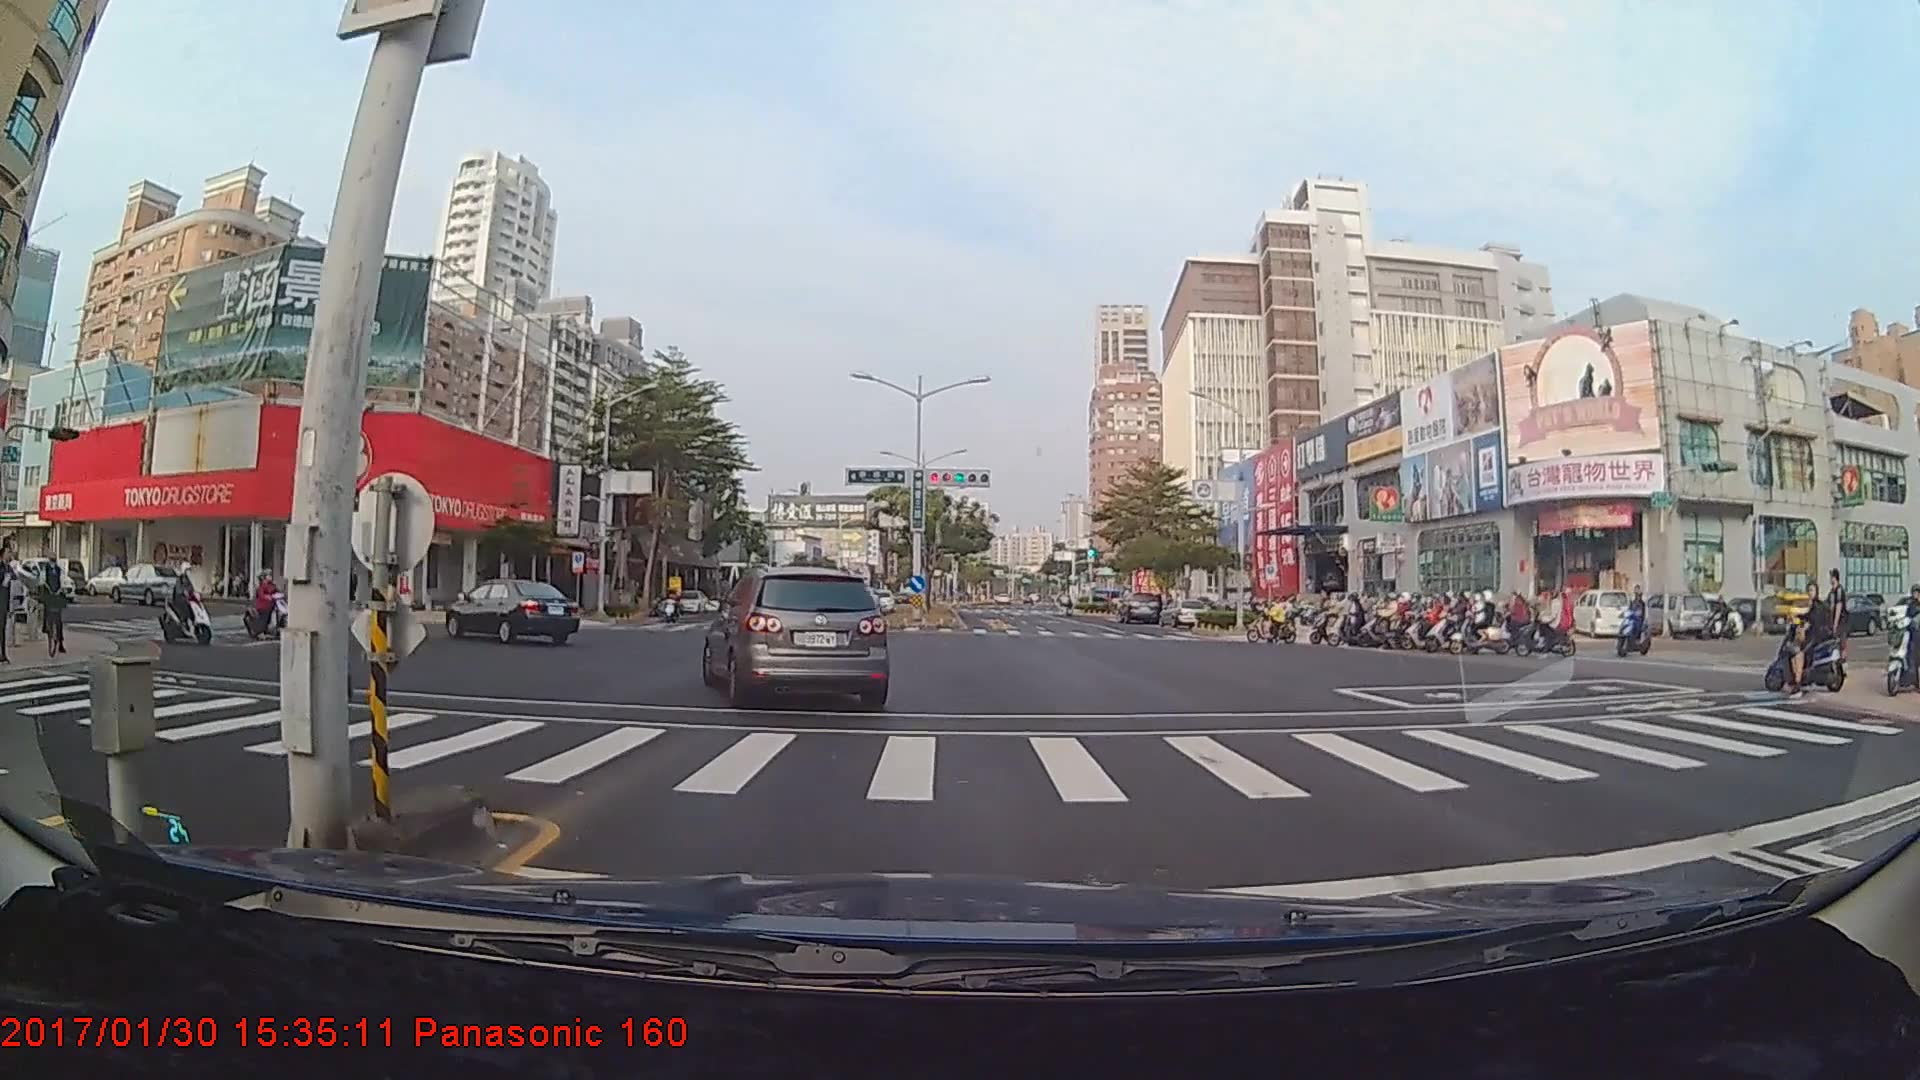pedestrian: (1823, 568, 1852, 681)
rider: (1769, 571, 1859, 698), (1512, 578, 1583, 663), (157, 560, 225, 648), (239, 572, 302, 642), (31, 555, 67, 662), (1461, 589, 1514, 654), (1298, 592, 1359, 645), (1432, 591, 1487, 647), (1346, 594, 1399, 649), (1244, 593, 1301, 642), (1617, 591, 1659, 656), (1404, 599, 1456, 648), (657, 584, 685, 621)
vehicle: (701, 563, 892, 704), (443, 578, 580, 646), (109, 562, 190, 605), (1115, 590, 1161, 625)
